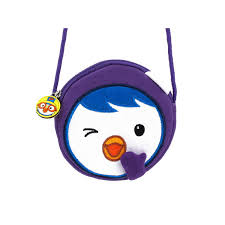Petty: (50, 59, 180, 181)
Pororo: (32, 92, 63, 120)
